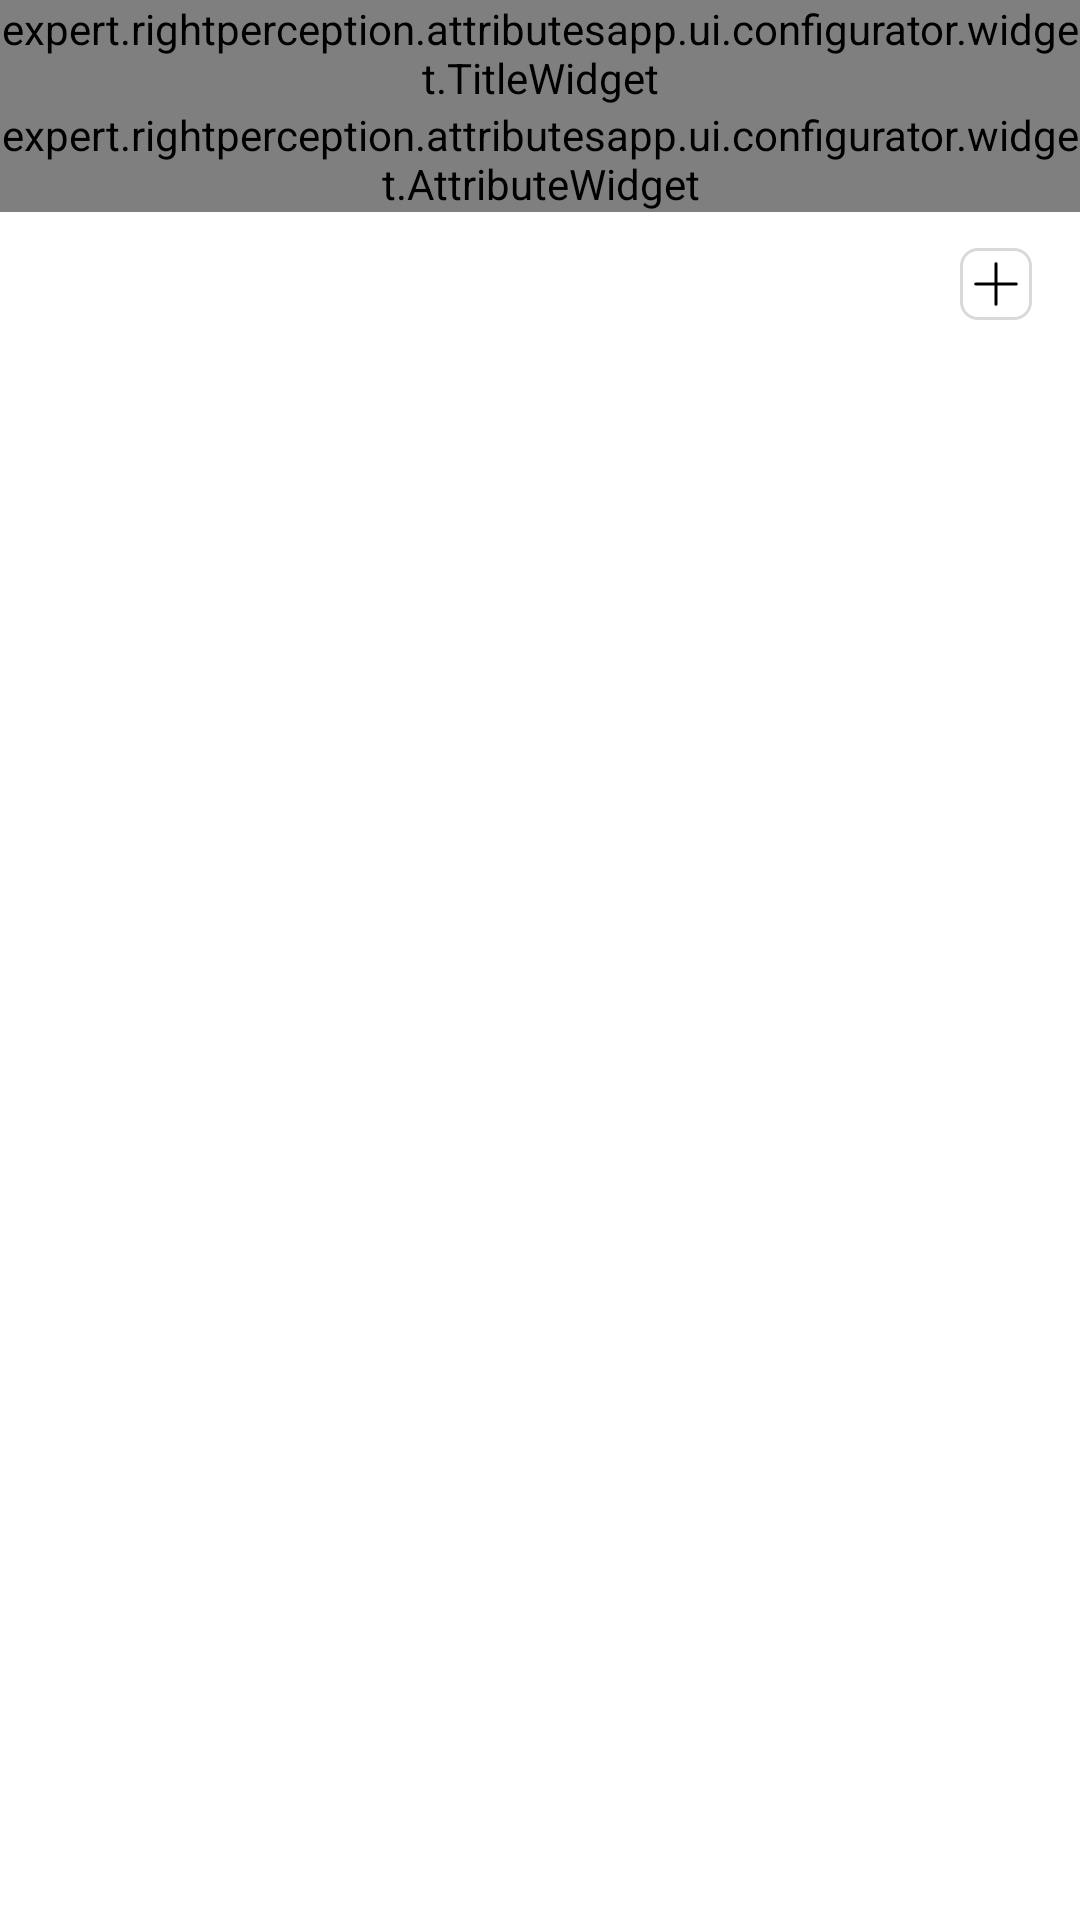

Named icons in this screenshot (1080w x 1920h) and their centers, (x,y):
plus: (996,284)
